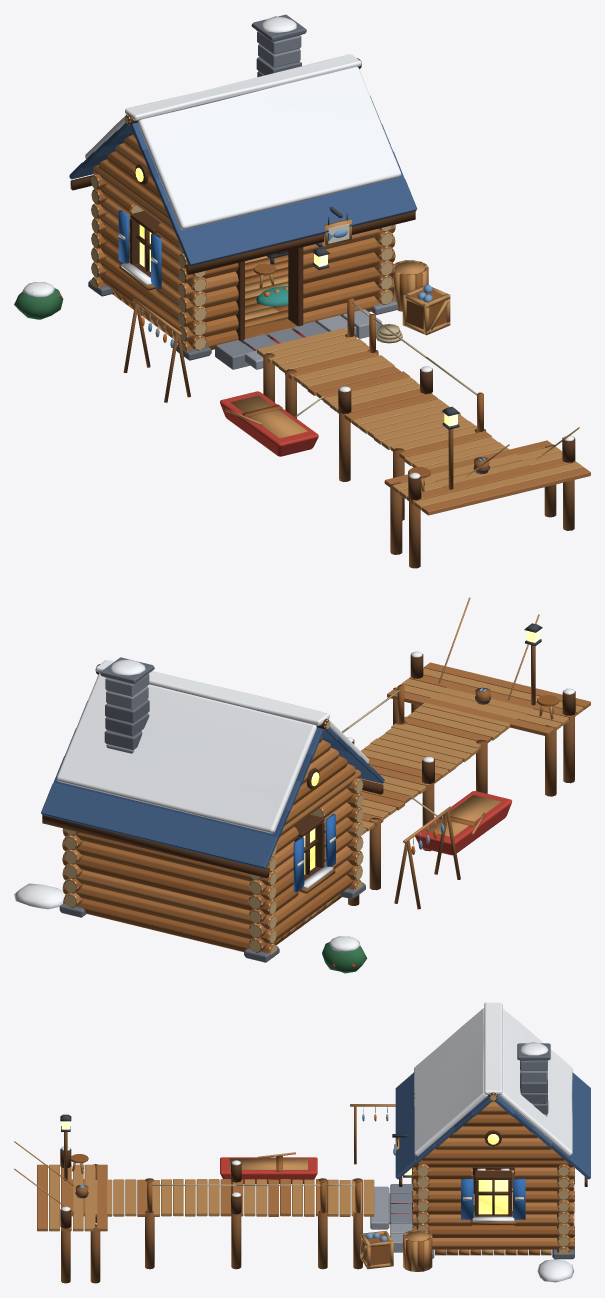
The model's file is fishing.glb.
The picture shows the model from 3 angles, top to bottom: view 1: azimuth 30°, elevation 25°; view 2: azimuth 150°, elevation 25°; view 3: azimuth 270°, elevation 25°; orthographic projection. The views are drawn at different scales.
Visible parts, largest first — view 1: roof, floor, walls, exterior, interior; view 2: roof, walls, floor, exterior; view 3: roof, floor, walls, exterior.
Boxes of the visible parts, x1,y1,x2,y2 form: roof: [69, 14, 417, 274]; floor: [112, 255, 590, 515]; walls: [88, 165, 397, 360]; exterior: [14, 260, 579, 568]; interior: [253, 251, 288, 306]; roof: [41, 657, 384, 877]; walls: [59, 769, 365, 962]; floor: [273, 662, 590, 945]; exterior: [14, 597, 575, 973]; roof: [395, 1002, 590, 1186]; floor: [37, 1164, 552, 1255]; walls: [392, 1101, 574, 1259]; exterior: [14, 1104, 573, 1283].
Bounding box in the file's own units: 6.01 × 4.81 × 10.66.
